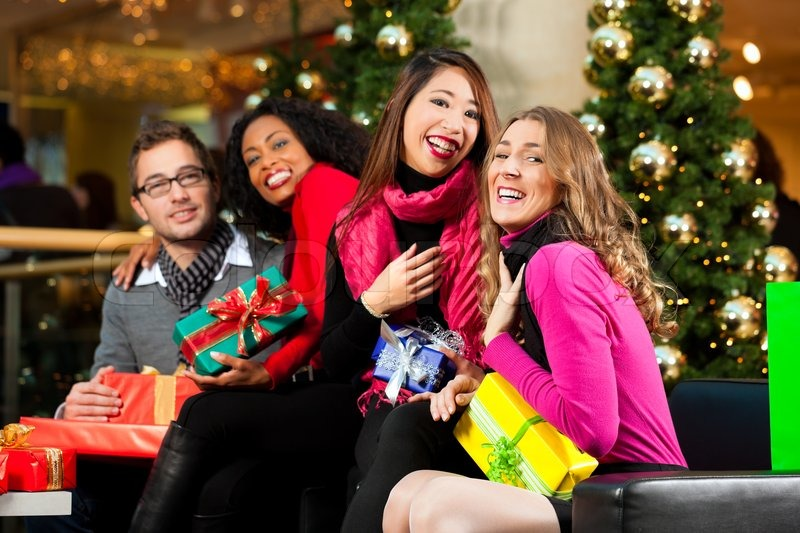Person: (484, 103, 705, 533), (53, 117, 258, 434), (227, 77, 404, 420), (342, 51, 484, 425)
